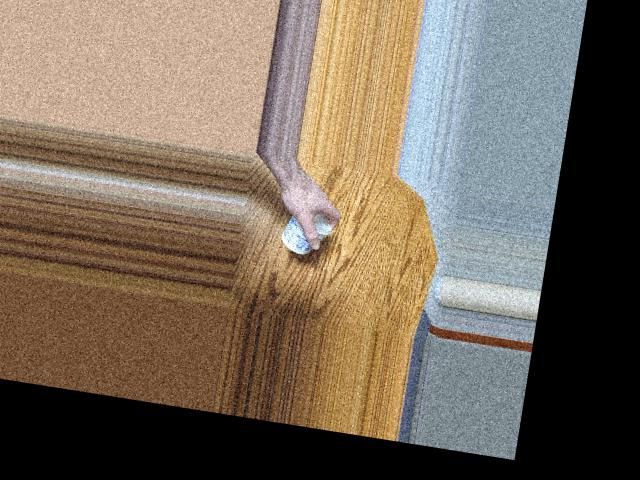cotage: (275, 204, 335, 259)
